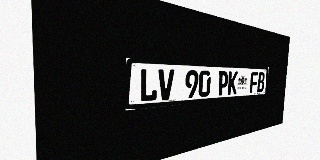0: (198, 70, 211, 97)
9: (185, 70, 199, 98)
B: (257, 72, 265, 92)
F: (250, 72, 258, 93)
K: (227, 71, 238, 95)
L: (139, 68, 158, 102)
P: (217, 71, 229, 96)
V: (158, 69, 174, 101)
